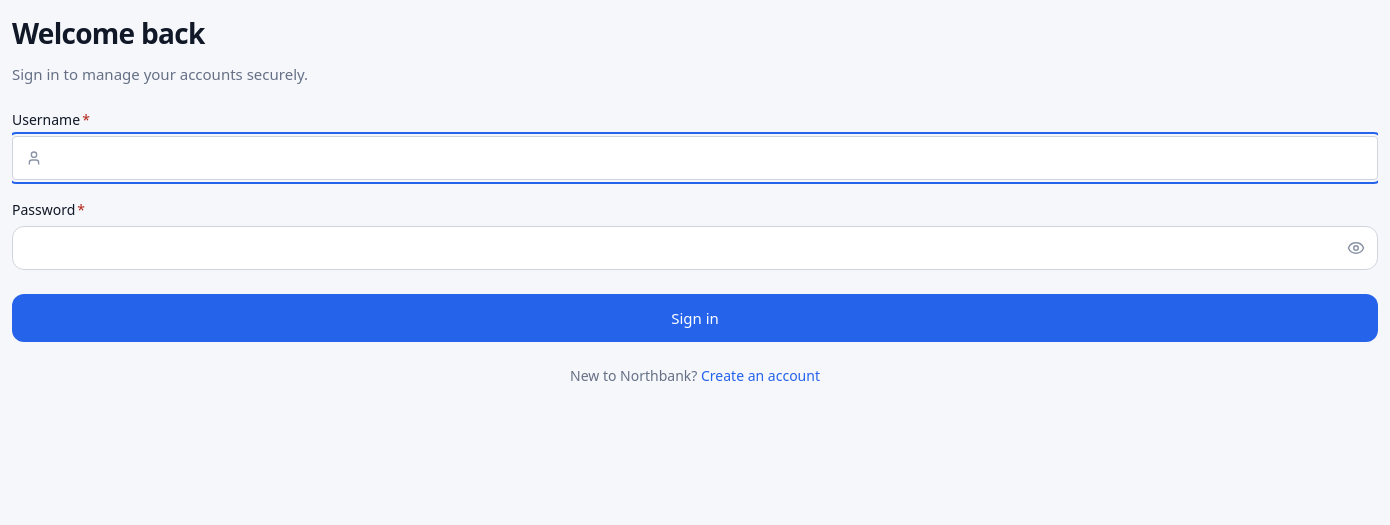
Test case: when the account carries a second factor › says the code was refused without saying which credential was wrong
Type "ada.lovelace" into the field labelled "Username" at (695, 158), box x1=12 y1=136 x2=1378 y2=180
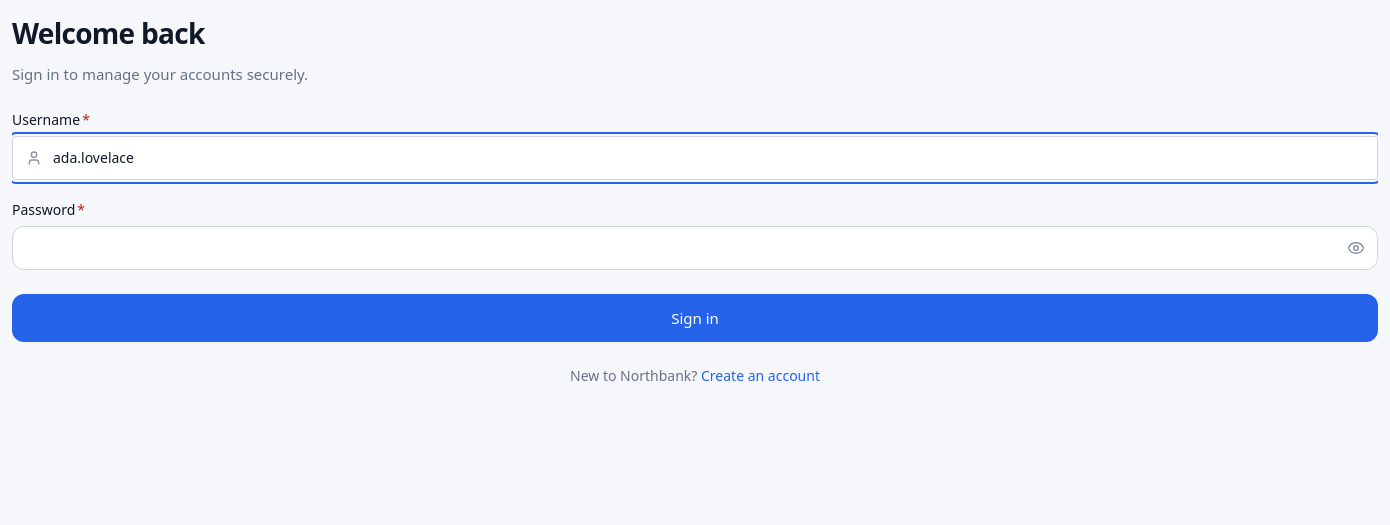
Type "DemoPassword123!" into the password field labelled "Password" at (695, 248), box x1=12 y1=226 x2=1378 y2=270
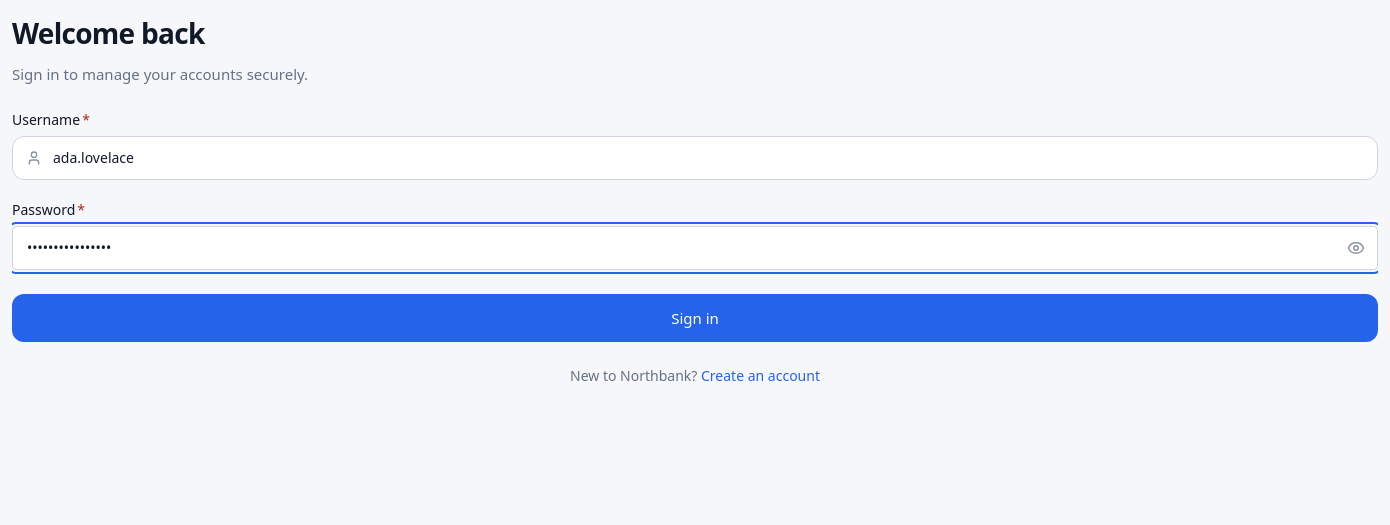
Click the button "Sign in" at (695, 318), box x1=12 y1=294 x2=1378 y2=342
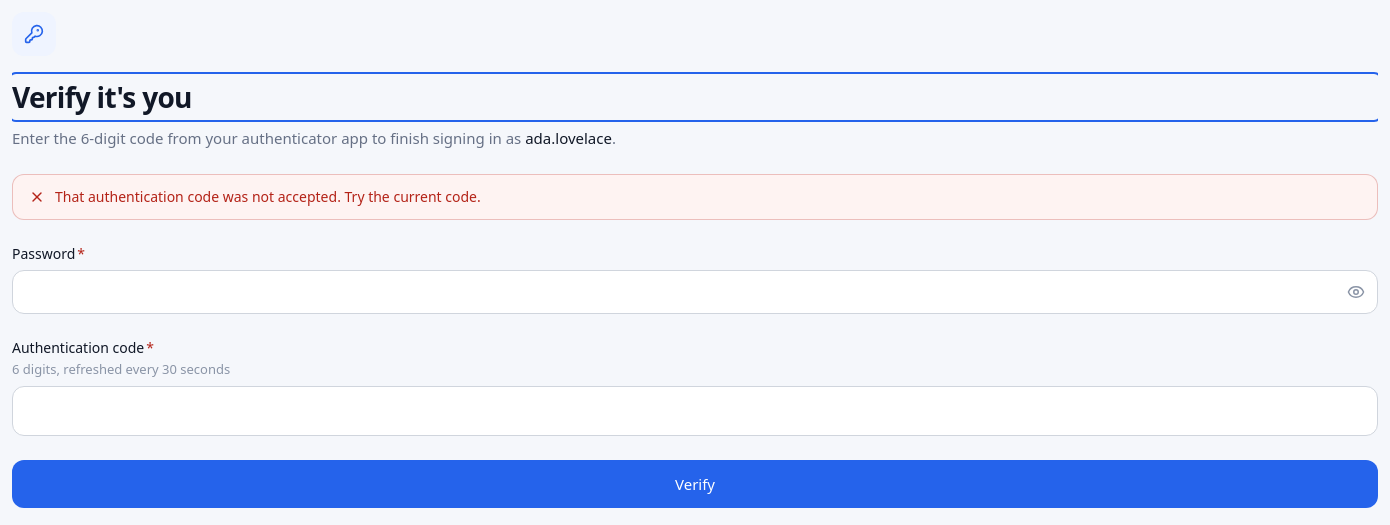
Expected: the text "authentication code was not accepted" is shown, x1=55 y1=187 x2=481 y2=206
Expected: the field labelled "Authentication code" is shown, x1=12 y1=386 x2=1378 y2=436
